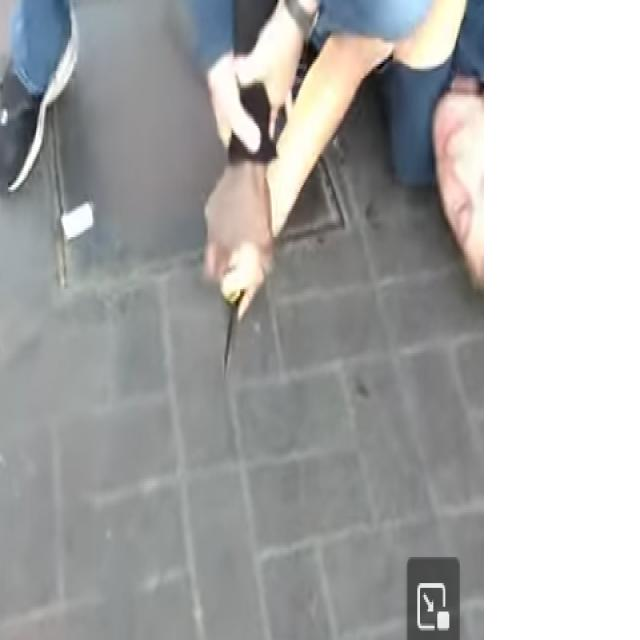Fknife: (217, 267, 252, 387)
